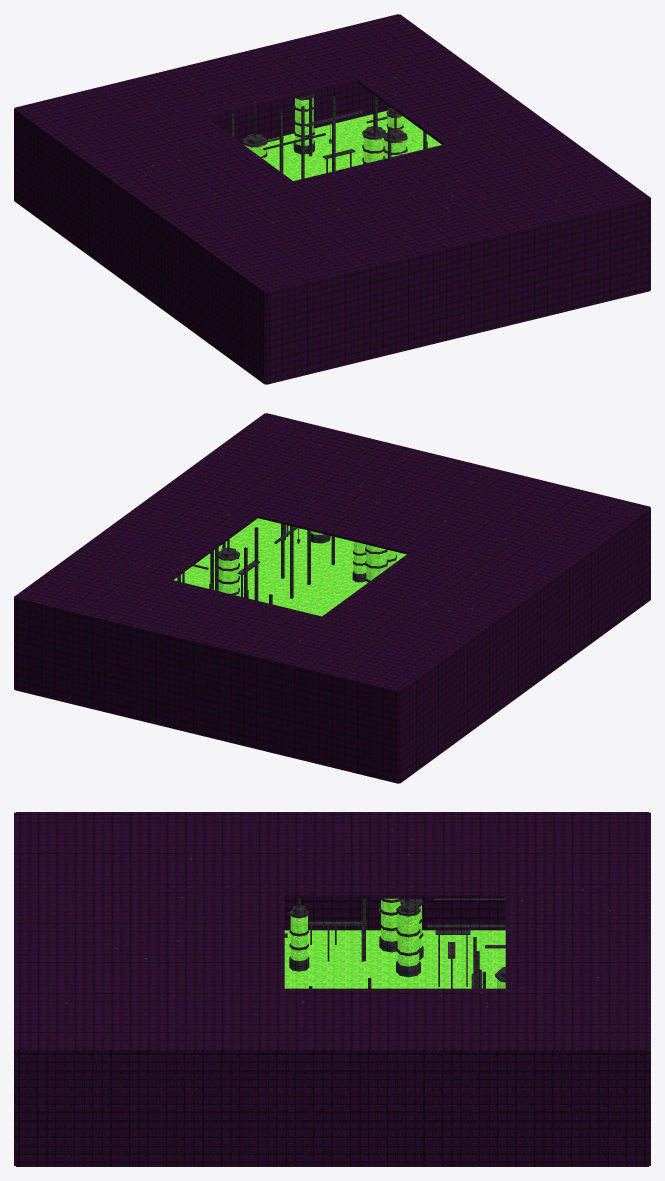
The model's file is background.glb.
3 renders of one model, top to bottom at view 1: azimuth 30°, elevation 25°; view 2: azimuth 150°, elevation 25°; view 3: azimuth 270°, elevation 25°, orthographic. The views are drawn at different scales.
Parts seen in each view (by area): view 1: BG_Factory_Shell, BG_Factory_Glass, BG_Factory_Hull; view 2: BG_Factory_Shell, BG_Factory_Glass, BG_Factory_Hull; view 3: BG_Factory_Shell, BG_Factory_Glass, BG_Factory_Hull.
Boxes of the visible parts, <box> form: BG_Factory_Shell: <box>14,14,650,384</box>; BG_Factory_Glass: <box>244,98,441,384</box>; BG_Factory_Hull: <box>144,56,557,238</box>; BG_Factory_Shell: <box>14,413,650,783</box>; BG_Factory_Glass: <box>174,518,406,783</box>; BG_Factory_Hull: <box>146,445,505,640</box>; BG_Factory_Shell: <box>14,812,650,1166</box>; BG_Factory_Glass: <box>284,898,505,988</box>; BG_Factory_Hull: <box>64,829,610,1007</box>.
Bounding box in the file's own units: 306 × 71 × 346.
Materials: 4 (4 with a texture image).
